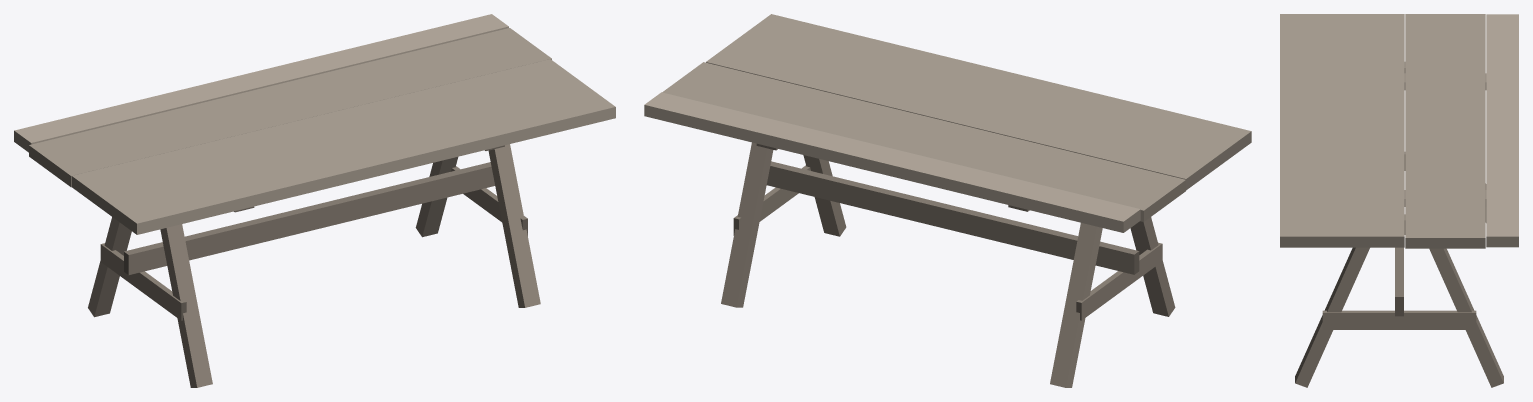
File: prop_table.glb
The picture shows the model from 3 angles, left to right: view 1: azimuth 30°, elevation 25°; view 2: azimuth 150°, elevation 25°; view 3: azimuth 270°, elevation 25°; orthographic projection. The views are drawn at different scales.
Parts seen in each view (by area): view 1: Table; view 2: Table; view 3: Table.
Boxes of the visible parts, x1,y1,x2,y2 form: Table: (14,14,615,387); Table: (644,14,1251,387); Table: (1280,14,1518,387).
Size of the model in its own units: 2 by 0.762 by 0.9.
